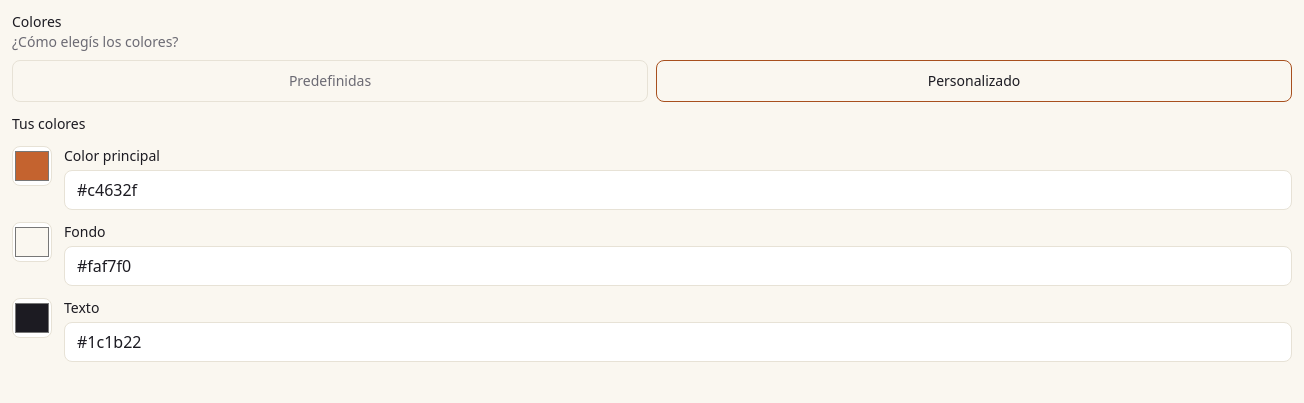
Test: PaletteModeSelector — modo personalizado › hex inválido muestra aviso calmo sin parpadeo (cozytech)
The image size is (1304, 403).
Replace the text in the field labelled "Color principal" with "#zz" at (678, 190), box x1=64 y1=170 x2=1292 y2=210
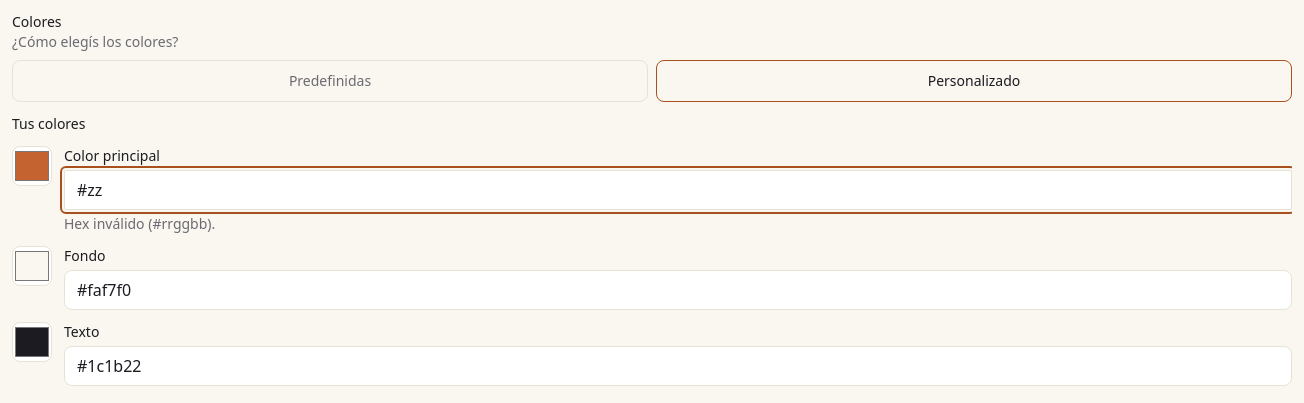
Check: the text "Hex inválido (#rrggbb)." is shown once, box x1=64 y1=214 x2=215 y2=233
